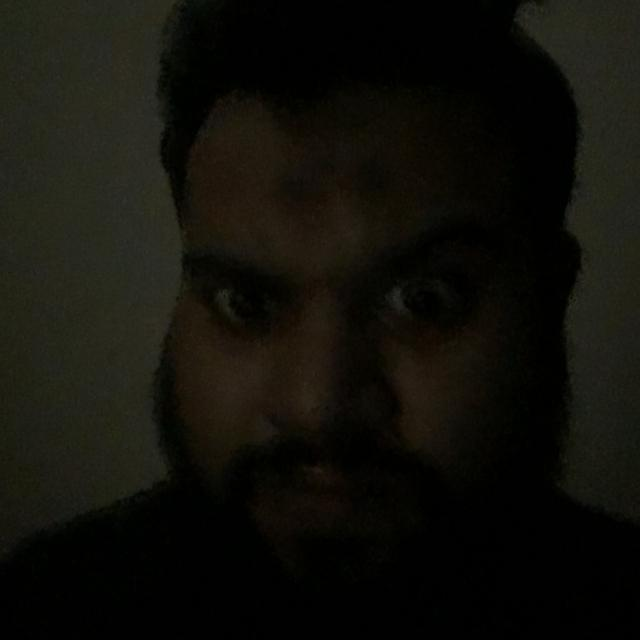Angry: (97, 42, 575, 609)
